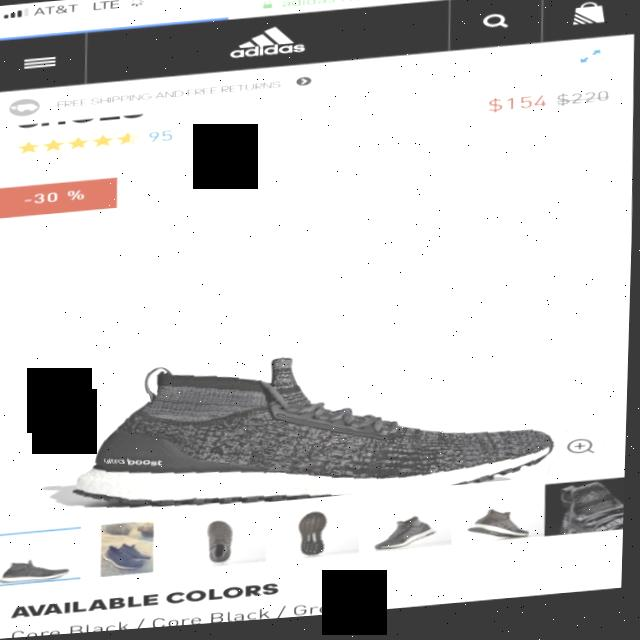shoe: (22, 307, 569, 525)
